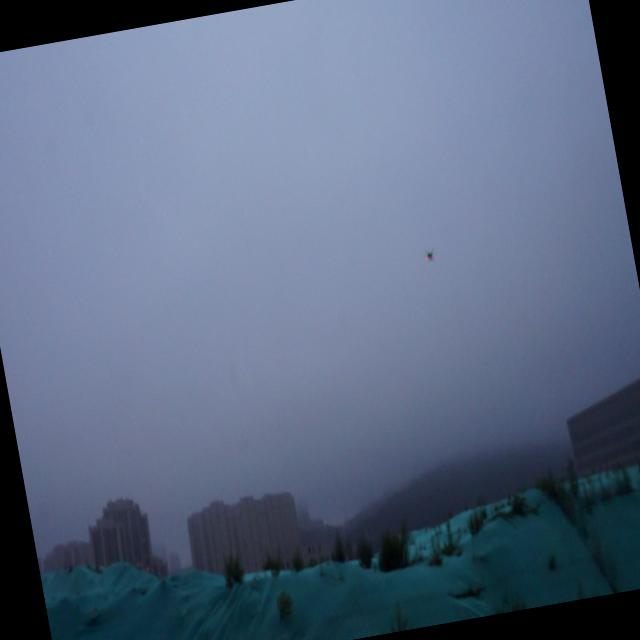drone: (421, 246, 440, 265)
